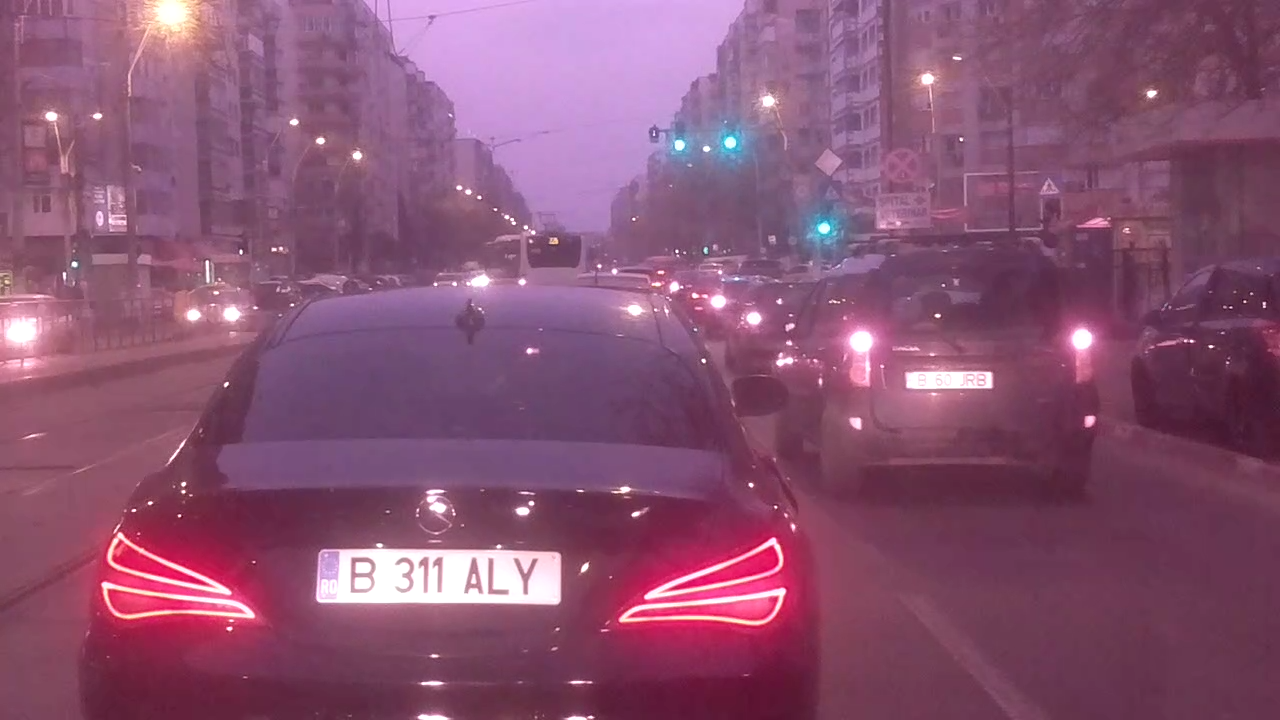license-plate: (309, 542, 569, 611), (901, 368, 997, 392)
